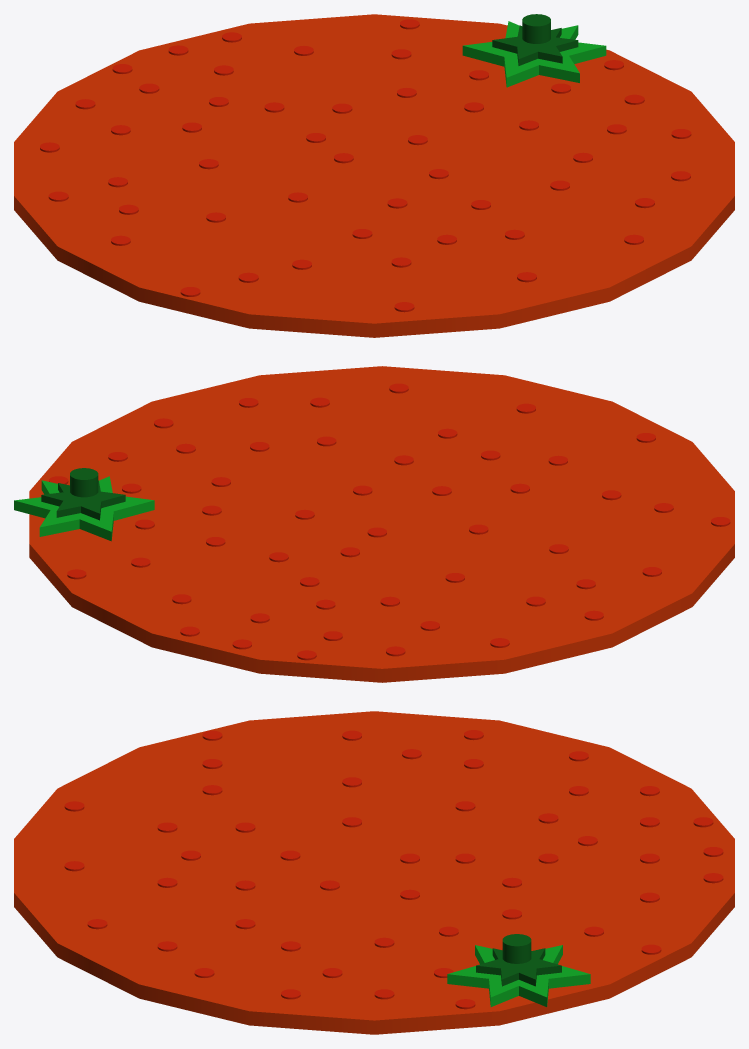
The model's file is flatorange.FBX.
The picture shows the model from 3 angles, top to bottom: view 1: azimuth 30°, elevation 25°; view 2: azimuth 150°, elevation 25°; view 3: azimuth 270°, elevation 25°; orthographic projection. The views are drawn at different scales.
Parts seen in each view (by area): view 1: Cylinder001, Star001, Star002, Cylinder002; view 2: Cylinder001, Star001, Star002, Cylinder002; view 3: Cylinder001, Star001, Star002, Cylinder002.
Part boxes in pixels (box(x1,y1,x2,y2)): Cylinder001: box(14, 14, 734, 337); Star001: box(462, 21, 606, 87); Star002: box(492, 25, 578, 65); Cylinder002: box(522, 14, 550, 43); Cylinder001: box(29, 366, 734, 682); Star001: box(14, 476, 154, 541); Star002: box(41, 480, 125, 520); Cylinder002: box(70, 468, 98, 497); Cylinder001: box(14, 711, 734, 1034); Star001: box(447, 945, 590, 1006); Star002: box(476, 948, 561, 986); Cylinder002: box(502, 934, 531, 963).
Size of the model in its own units: 22.94 by 1.86 by 22.59.
